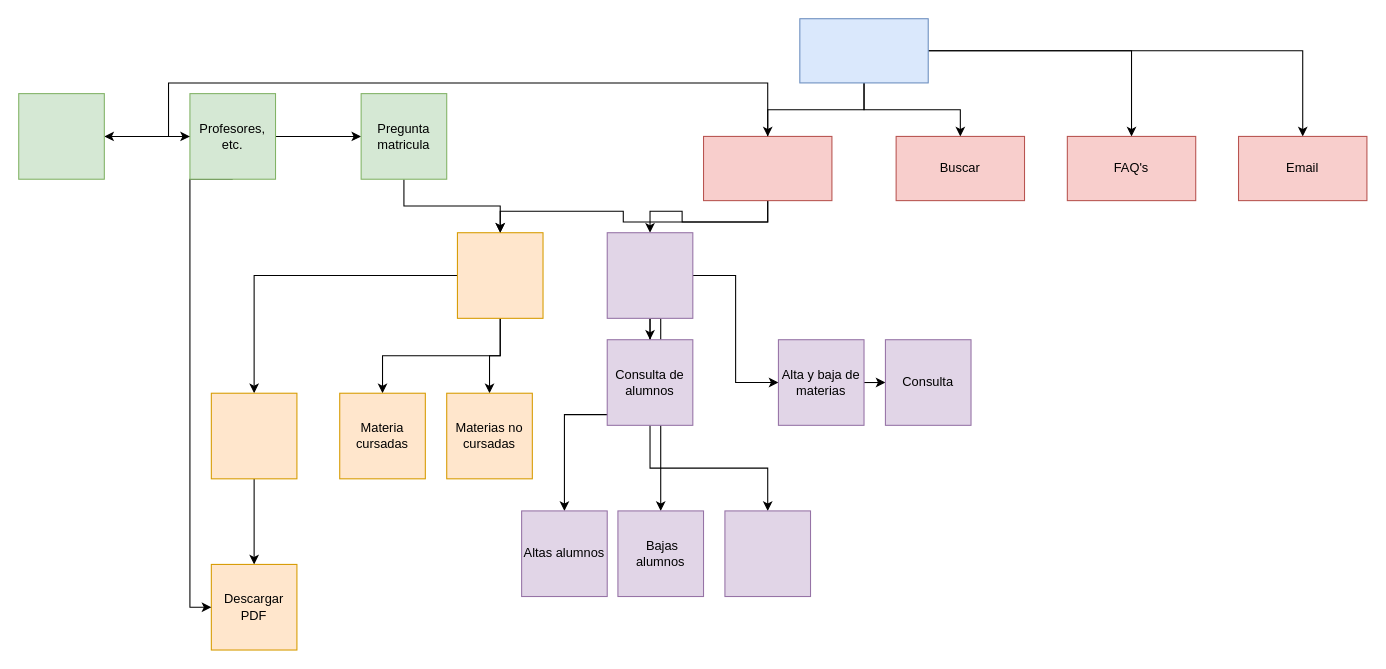
This 1386x669 diagram has some shape labels left out. Each missing label, with the box of its shape:
Administrador: (606, 232, 693, 318)
Estadisticas: (18, 93, 104, 179)
Estudiantes: (456, 232, 543, 318)
Inicio: (799, 18, 928, 83)
Log in: (702, 135, 832, 201)
Mapa curricular: (210, 392, 297, 479)
Modificación alumnos: (724, 510, 811, 597)
